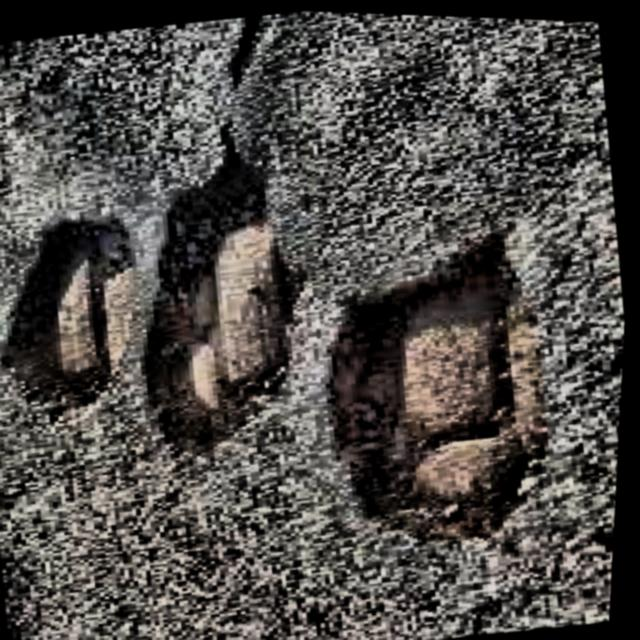pothole: (329, 234, 543, 534), (158, 151, 285, 452), (10, 215, 131, 420)
